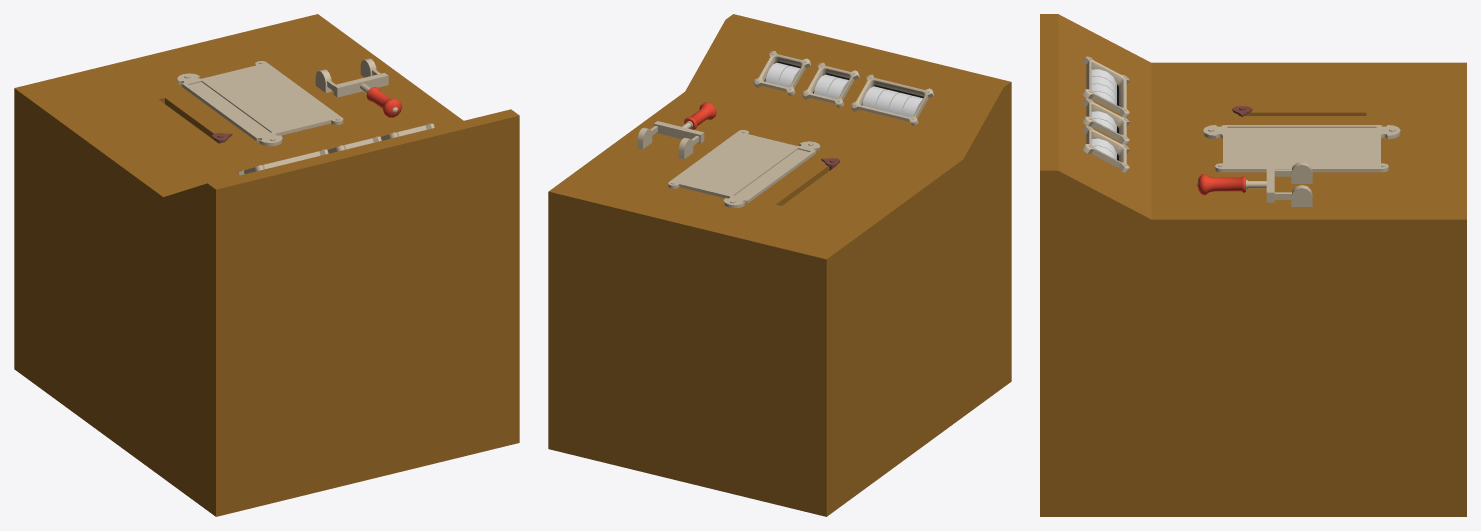
Rendered from mesh_TimeMechanism.fbx.
3 views of the same model, side by side, from view 1: azimuth 30°, elevation 25°; view 2: azimuth 150°, elevation 25°; view 3: azimuth 270°, elevation 25° (orthographic). The views are drawn at different scales.
Visible parts, largest first — view 1: TimeBox, Handle; view 2: TimeBox, Handle; view 3: TimeBox, Handle.
Part boxes in pixels (box(x1,y1,x2,y2)): TimeBox: box(14, 14, 519, 516); Handle: box(327, 69, 401, 117); TimeBox: box(548, 14, 1011, 516); Handle: box(650, 102, 716, 145); TimeBox: box(1040, 14, 1466, 516); Handle: box(1196, 166, 1291, 202).
Size of the model in its own units: 1130 by 1164 by 1301.
